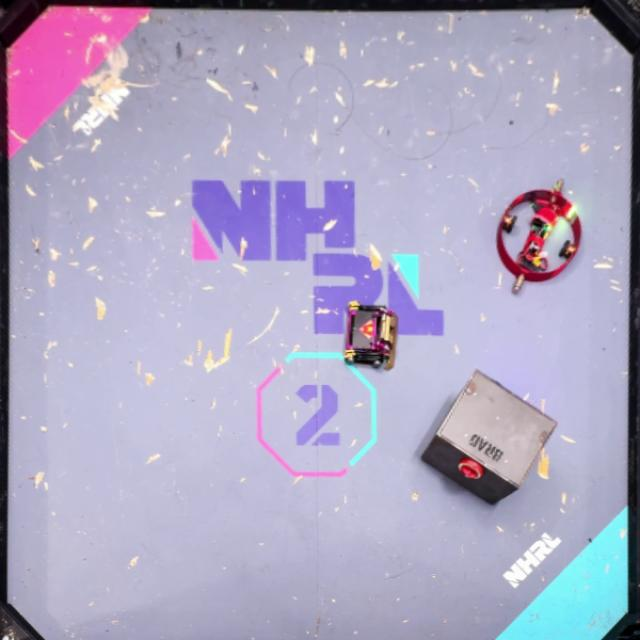housebot: (421, 369, 557, 505)
robot: (497, 176, 583, 292), (344, 301, 398, 370)
